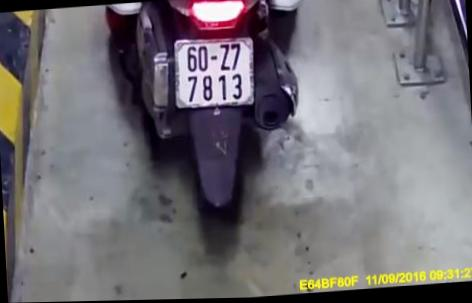LP: (171, 34, 257, 112)
